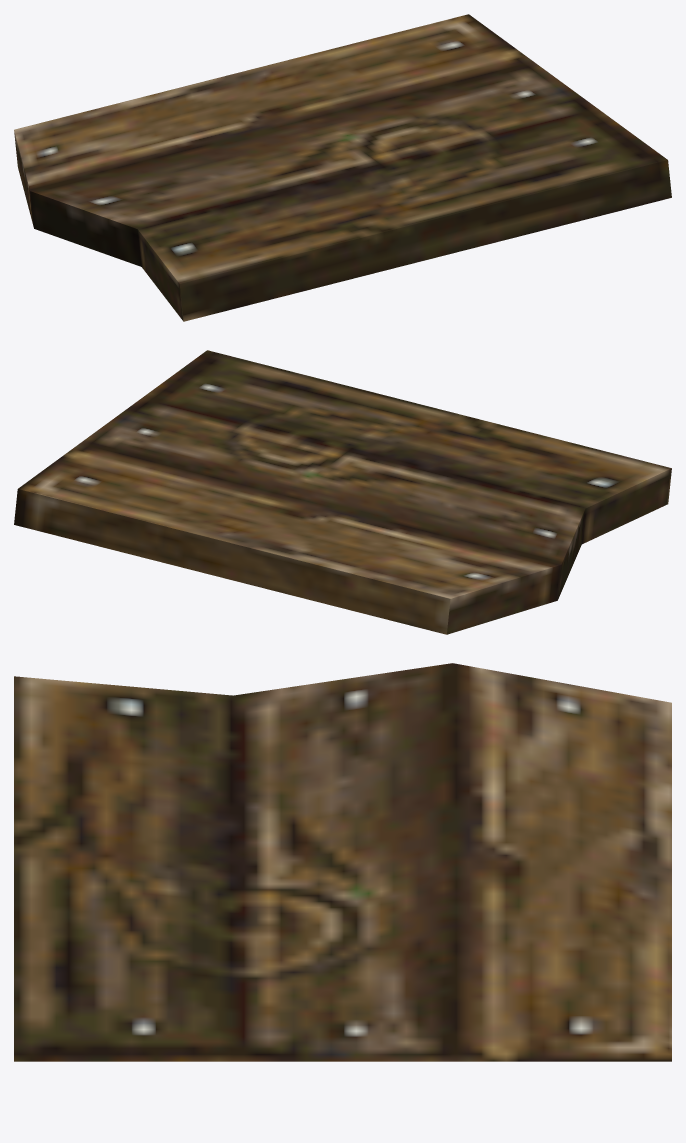
The model's file is 7001_Item_wujian_18.FBX.
The picture shows the model from 3 angles, top to bottom: view 1: azimuth 30°, elevation 25°; view 2: azimuth 150°, elevation 25°; view 3: azimuth 270°, elevation 25°; orthographic projection. The views are drawn at different scales.
Parts seen in each view (by area): view 1: 7001_Item_wujian_18; view 2: 7001_Item_wujian_18; view 3: 7001_Item_wujian_18.
Boxes of the visible parts, left/top/right/bottom form: 7001_Item_wujian_18: left=14, top=14, right=671, bottom=321; 7001_Item_wujian_18: left=14, top=350, right=671, bottom=634; 7001_Item_wujian_18: left=14, top=663, right=671, bottom=1061.
Bounding box in the file's own units: 54.98 × 4.52 × 37.27.
